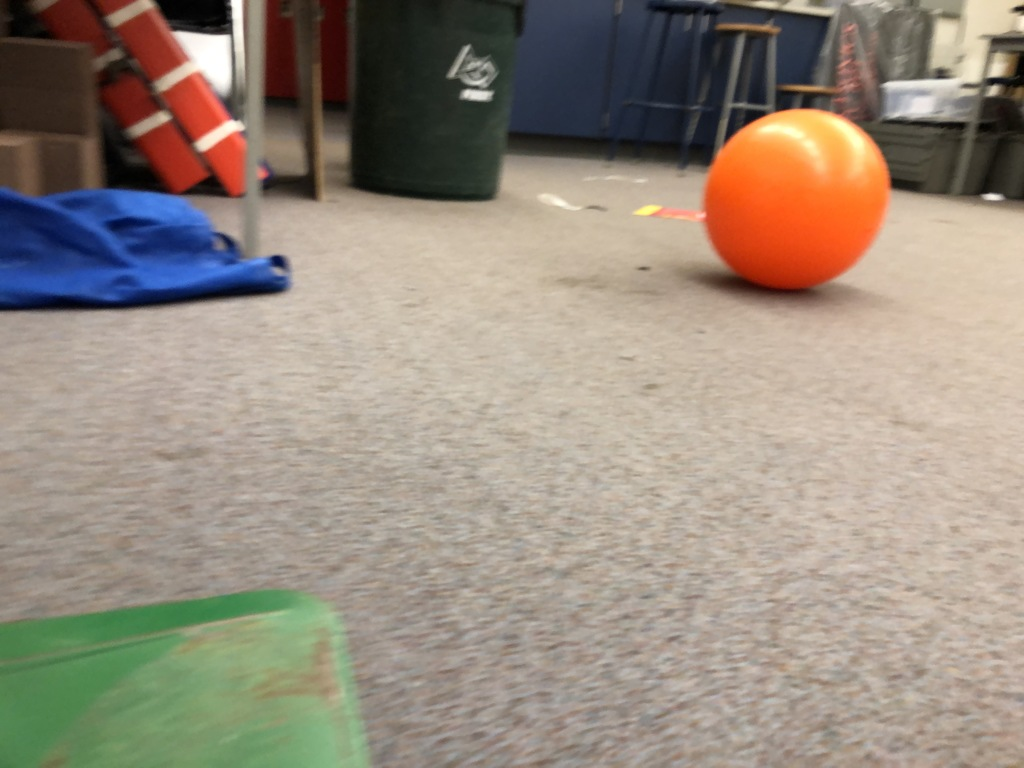cargo: (703, 97, 890, 290)
